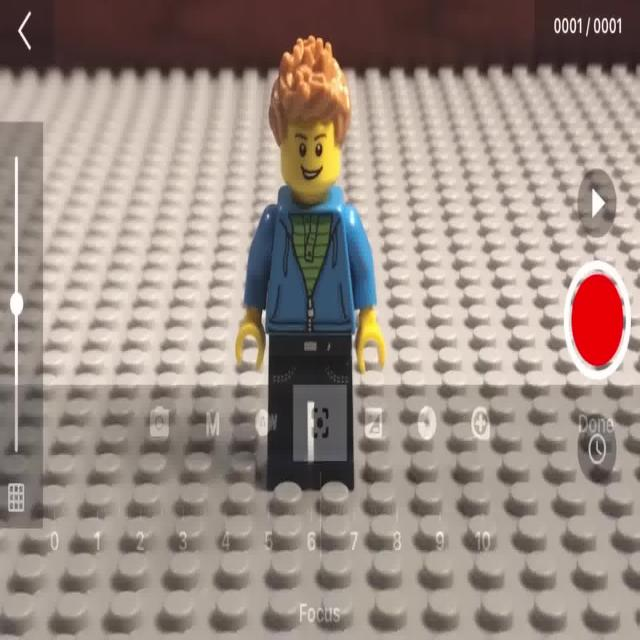4: (233, 179, 281, 390), (338, 195, 385, 368)
hand: (240, 26, 372, 489)
